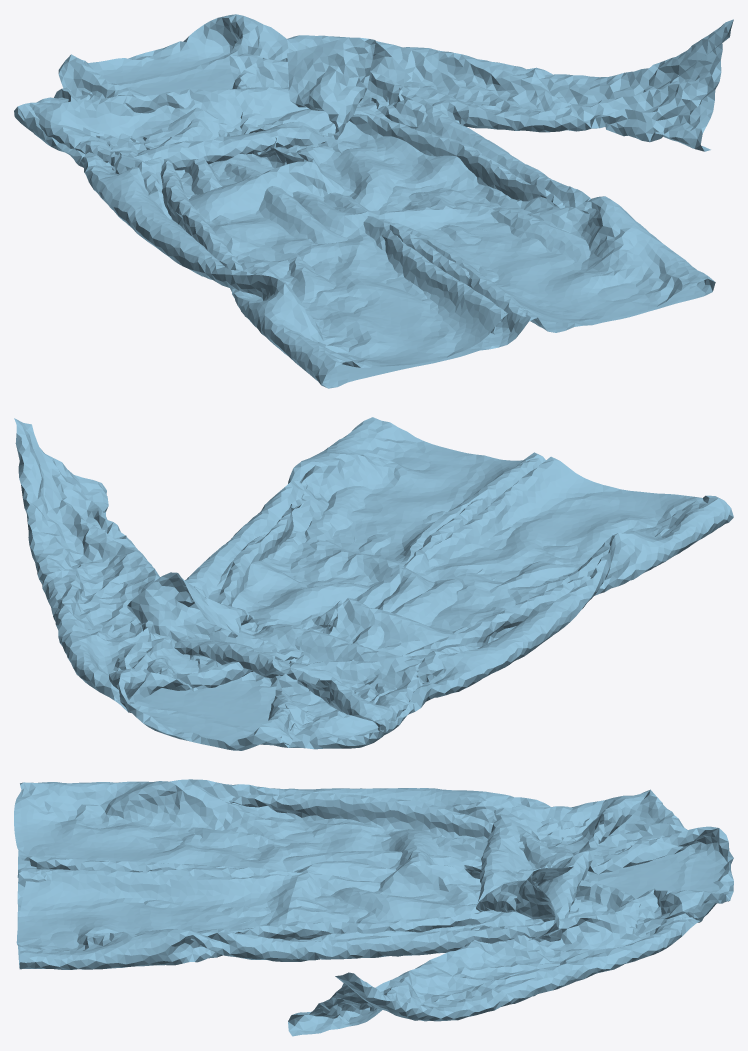
Rendered from frame_02.glb.
3 views of the same model, one above another, from view 1: azimuth 30°, elevation 25°; view 2: azimuth 150°, elevation 25°; view 3: azimuth 270°, elevation 25° (orthographic). The views are drawn at different scales.
Visible parts, largest first — view 1: frame_02.obj; view 2: frame_02.obj; view 3: frame_02.obj.
Boxes of the visible parts, x1,y1,x2,y2 form: frame_02.obj: (14,14,733,388); frame_02.obj: (14,417,733,750); frame_02.obj: (14,779,733,1036).
Bounding box in the file's own units: 1.44 × 0.2315 × 1.65.
